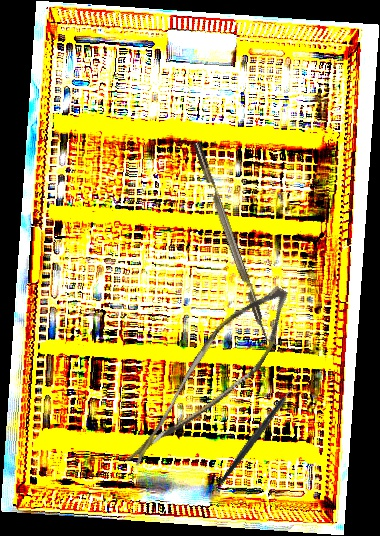Chopper: (193, 138, 281, 350), (191, 374, 323, 487)
Micro Scissor: (125, 264, 300, 496)
